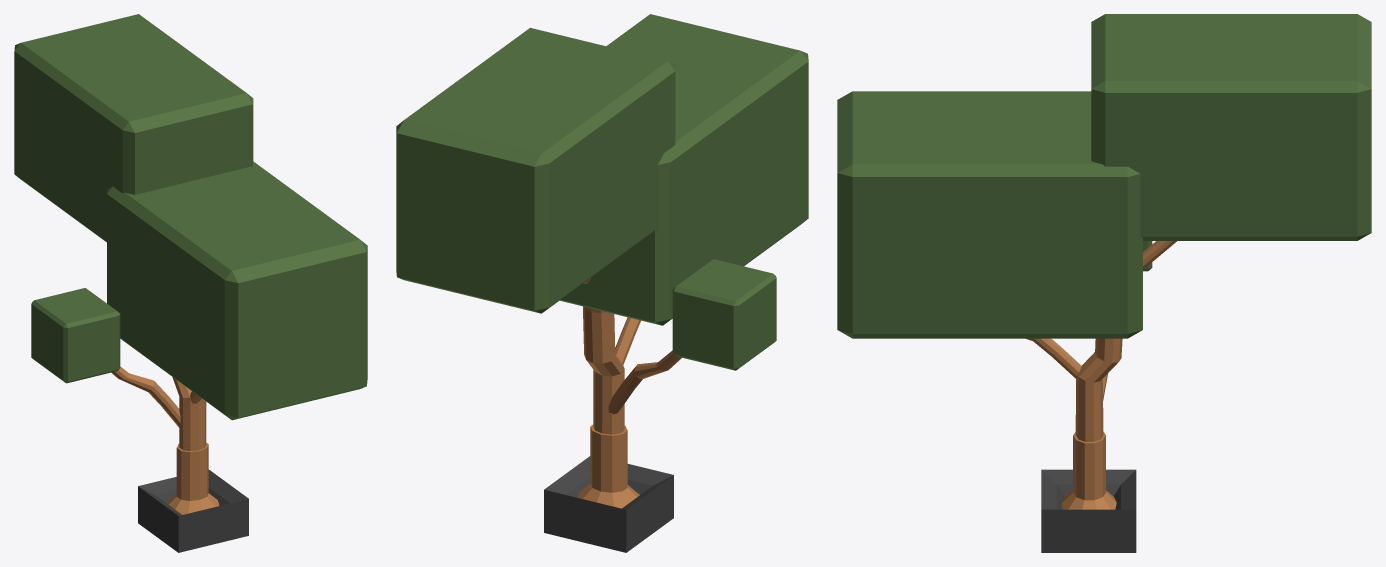
File: tree4.fbx
The picture shows the model from 3 angles, left to right: view 1: azimuth 30°, elevation 25°; view 2: azimuth 150°, elevation 25°; view 3: azimuth 270°, elevation 25°; orthographic projection. The views are drawn at different scales.
Parts seen in each view (by area): view 1: Cube.004, Cube.002, Cube.003, Cube, Cylinder, Cylinder.003; view 2: Cube.002, Cube.004, Cube.003, Cube, Cylinder, Cylinder.003, Cylinder.001; view 3: Cube.004, Cube.002, Cube, Cylinder, Cylinder.001.
Part boxes in pixels (x1,y1,x2,y2): Cube.004: (107, 161, 367, 420); Cube.002: (14, 14, 253, 242); Cube.003: (31, 288, 120, 383); Cube: (138, 469, 248, 552); Cylinder: (166, 377, 219, 514); Cylinder.003: (111, 366, 180, 427); Cube.002: (396, 28, 675, 313); Cube.004: (560, 14, 808, 325); Cube.003: (672, 259, 776, 370); Cube: (544, 456, 673, 552); Cylinder: (578, 306, 639, 508); Cylinder.003: (608, 350, 681, 414); Cylinder.001: (615, 317, 640, 364); Cube.004: (837, 91, 1142, 338); Cube.002: (1091, 14, 1371, 240); Cube: (1041, 469, 1136, 552); Cylinder: (1061, 338, 1122, 509); Cylinder.001: (1026, 338, 1081, 378).
Bounding box in the file's own units: 1029 × 1953 × 1944.
